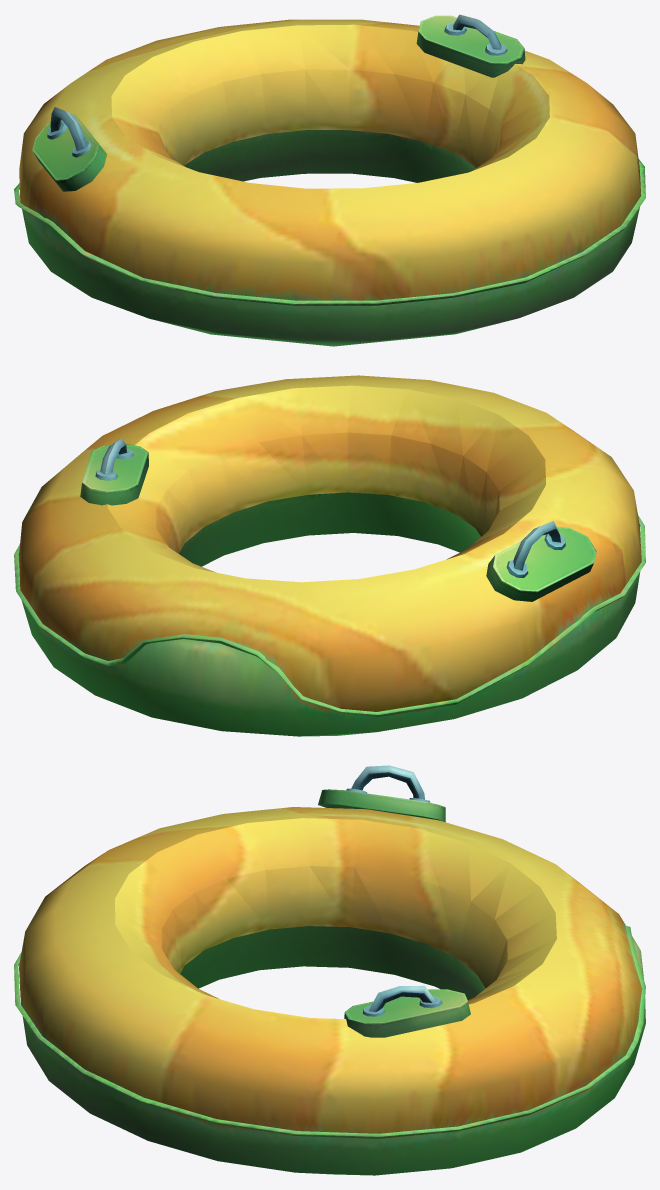
The model's file is Swim ring_2.obj.
3 views of the same model, one above another, from view 1: azimuth 30°, elevation 25°; view 2: azimuth 150°, elevation 25°; view 3: azimuth 270°, elevation 25° (orthographic).
Visible parts, largest first — view 1: g0; view 2: g0; view 3: g0.
Part boxes in pixels (x1,y1,x2,y2): g0: (14, 14, 645, 346); g0: (14, 375, 645, 736); g0: (14, 765, 645, 1175).
Size of the model in its own units: 0.6907 by 0.2316 by 0.6852.
1 material, 1 textured.
